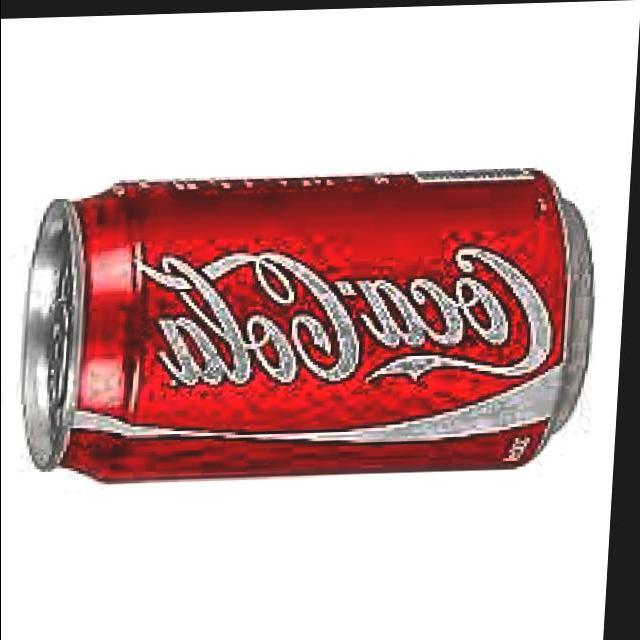litter: (6, 160, 610, 493)
